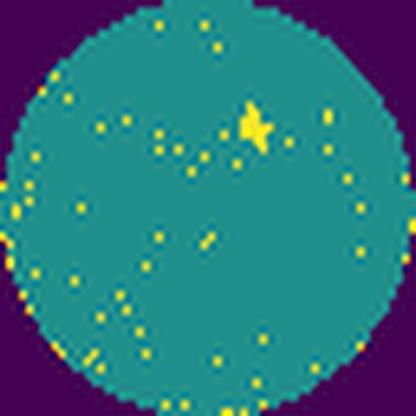Loc: (235, 96, 273, 155)
